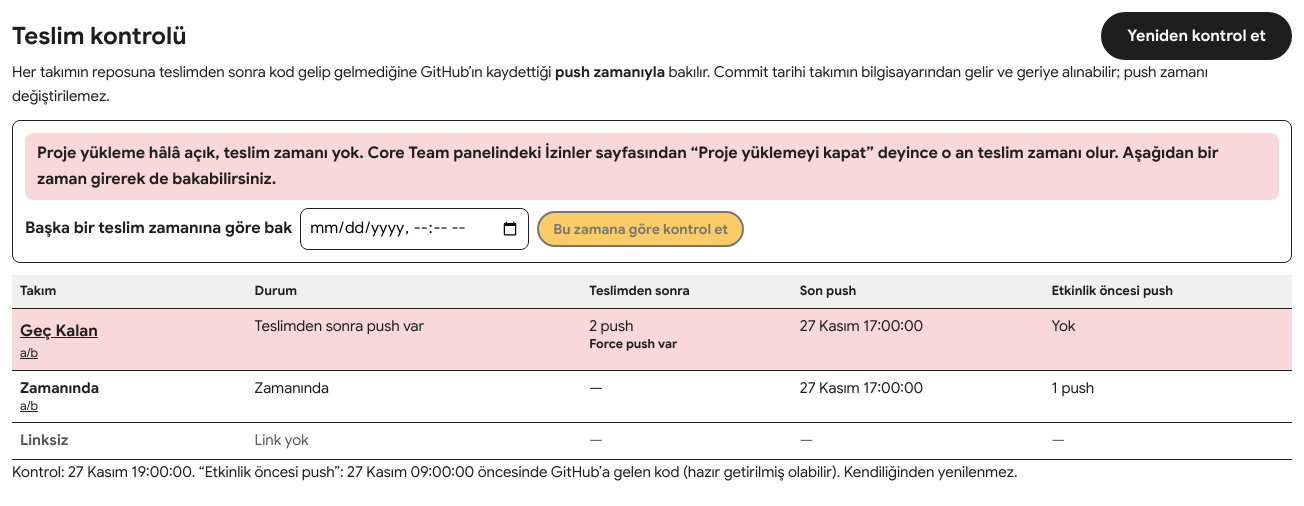
Teslim kontrolü › yükleme açıkken teslim zamanı yok der; elle girilen zamanla (UTC+3) yeniden sorar
Check: the text "Proje yükleme hâlâ açık, teslim zamanı yok" is shown, box top-left (37, 143), bottom-right (1218, 189)
In the field labelled "Başka bir teslim zamanına göre bak": (415, 229) top-left (300, 208), bottom-right (529, 250), type "2026-11-27T17:30"
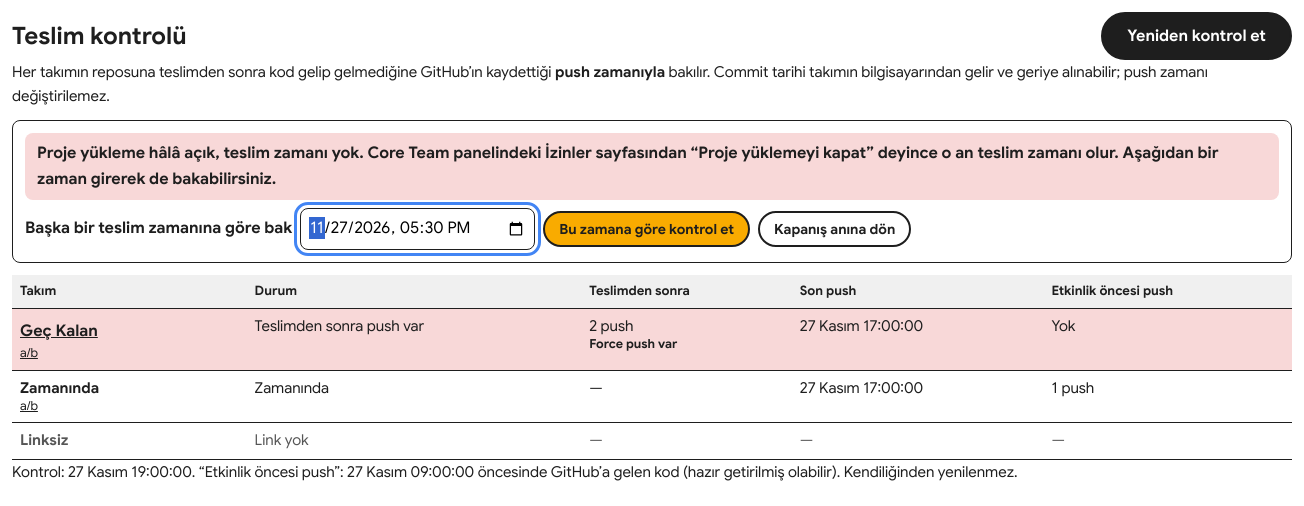
Click the button "Bu zamana göre kontrol et": (647, 229) top-left (543, 211), bottom-right (750, 247)
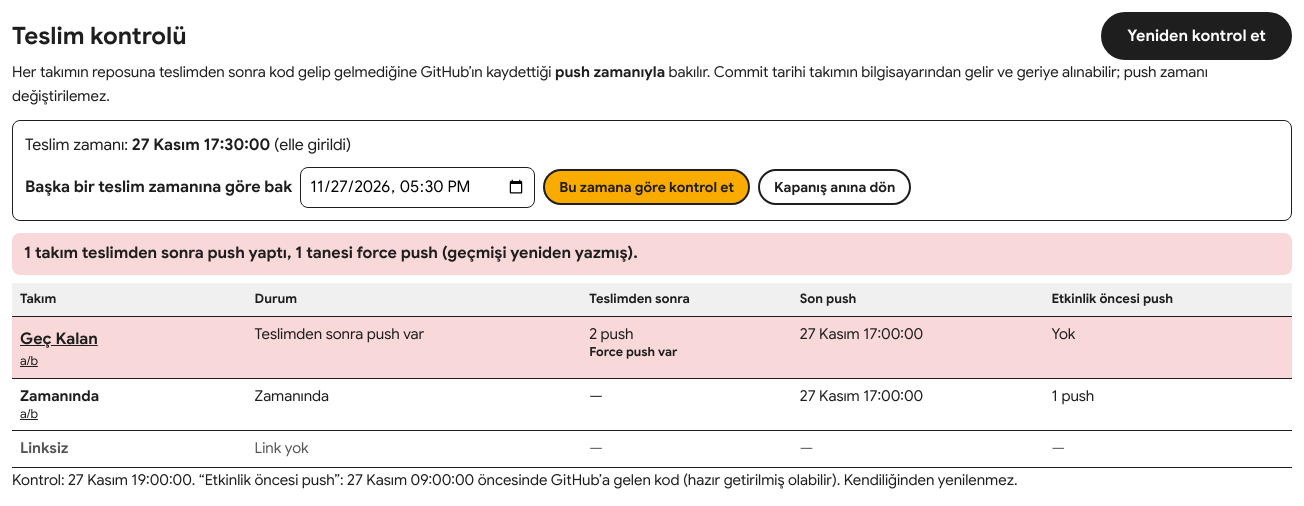
Check: the text "Teslim zamanı: 27 Kasım 17:30:00 (elle girildi)" is shown, box top-left (25, 135), bottom-right (351, 155)
